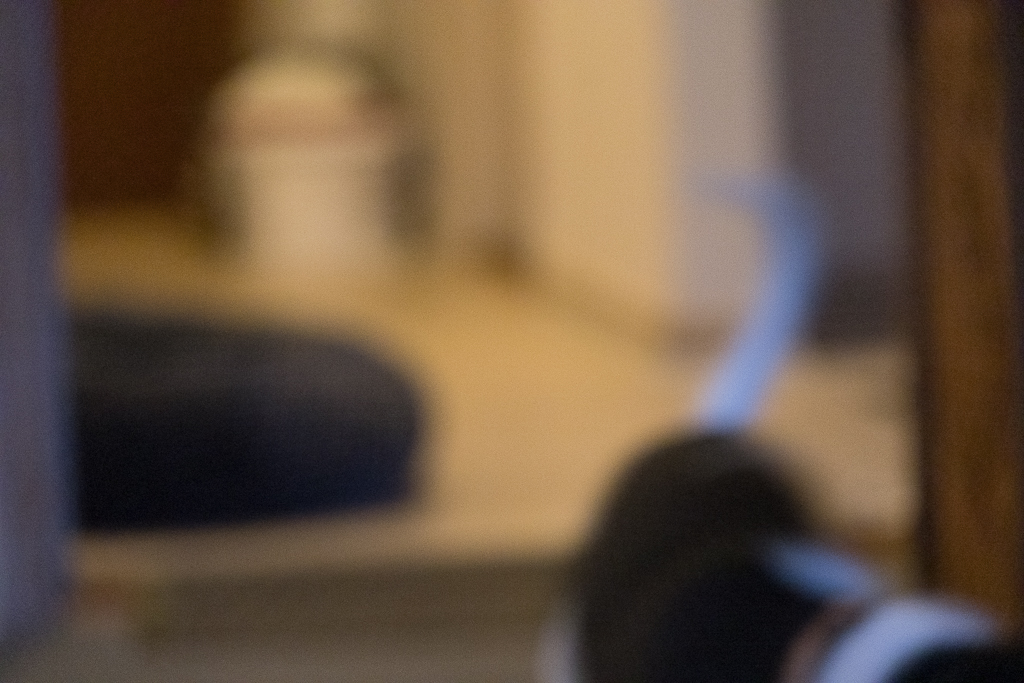Dog: (541, 158, 1024, 683)
